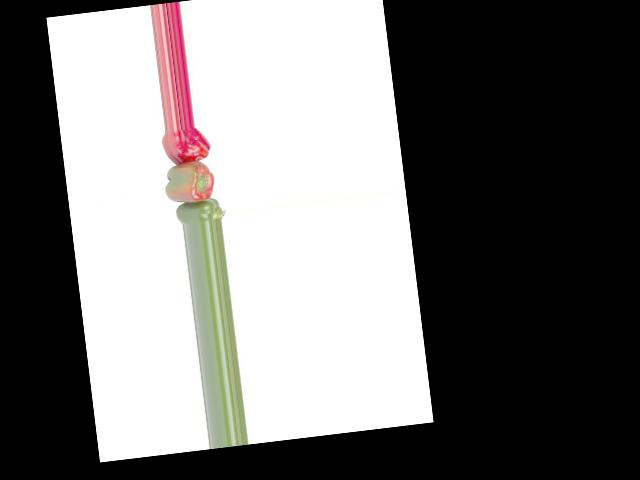bell_pepper: (158, 125, 216, 167)
